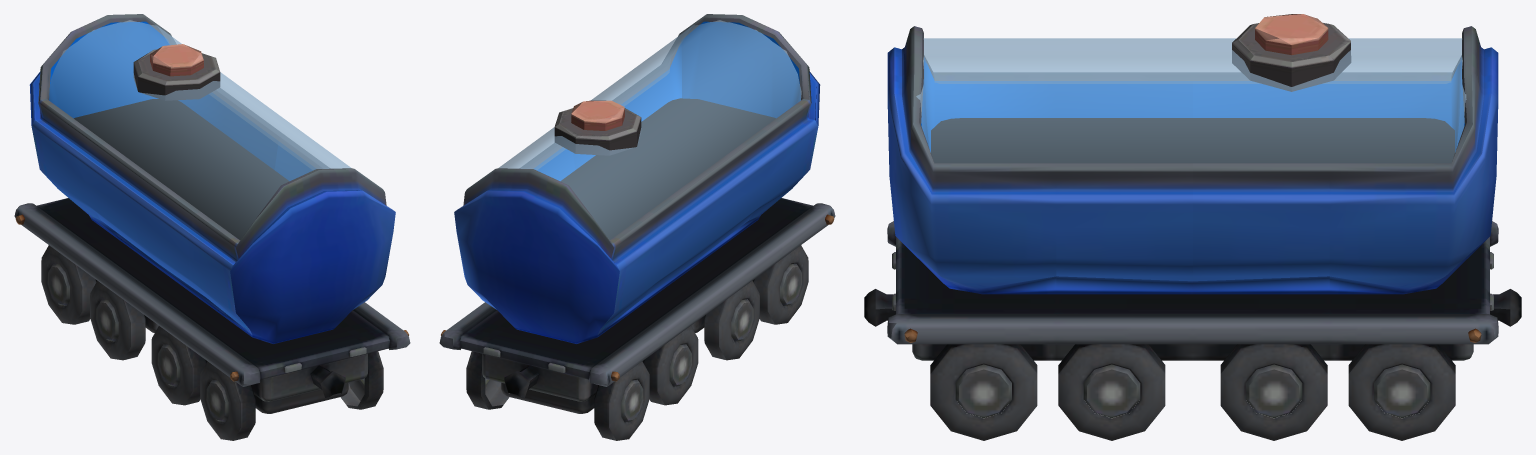
Rendered from SM_火车油罐_babylon_standard.glb.
The picture shows the model from 3 angles, left to right: view 1: azimuth 30°, elevation 25°; view 2: azimuth 150°, elevation 25°; view 3: azimuth 270°, elevation 25°; orthographic projection. The views are drawn at different scales.
Visible parts, largest first — view 1: SM_M_火车油罐, liquid_surface; view 2: SM_M_火车油罐, liquid_surface; view 3: SM_M_火车油罐, liquid_surface.
Part boxes in pixels (<box>): SM_M_火车油罐: <box>14,14,410,440</box>; liquid_surface: <box>74,99,289,239</box>; SM_M_火车油罐: <box>439,14,835,440</box>; liquid_surface: <box>560,98,775,239</box>; SM_M_火车油罐: <box>864,14,1521,440</box>; liquid_surface: <box>931,118,1454,163</box>.
Size of the model in its own units: 1.4 by 2.13 by 3.42.
5 materials, 2 textured.
